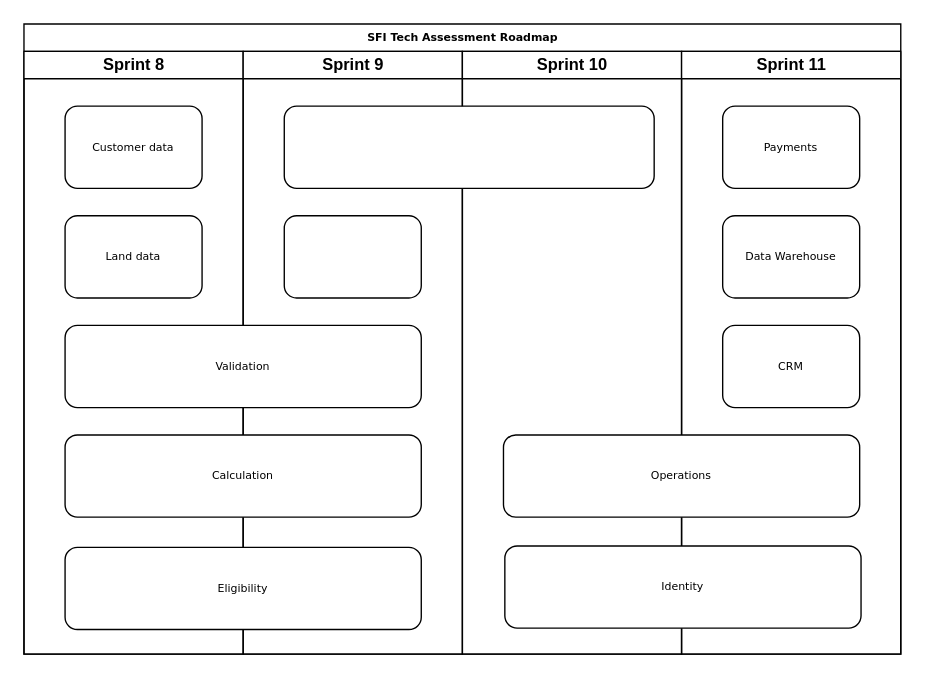
The diagram is 925 pixels wide and 678 high, and some of its shapes have lost their labels. Here are the shapes that lost their labels. From the top down, the centre of each, then its label:
At (468,146): "Cross compliance".
At (352,256): "Cross border".
